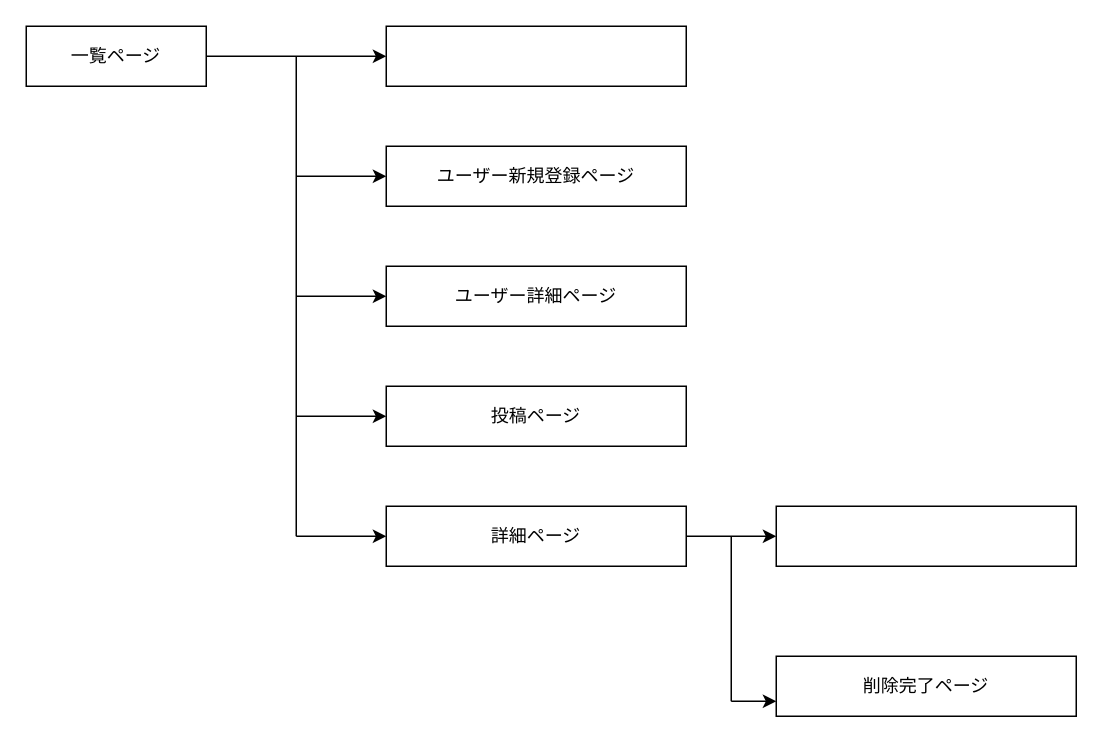
Image size: 1103x743. Some labels were removed from this diagram. Each missing label, with the centre of its shape:
"ユーザーログインページ" belongs at [535,55].
"編集ページ" belongs at [925,535].
